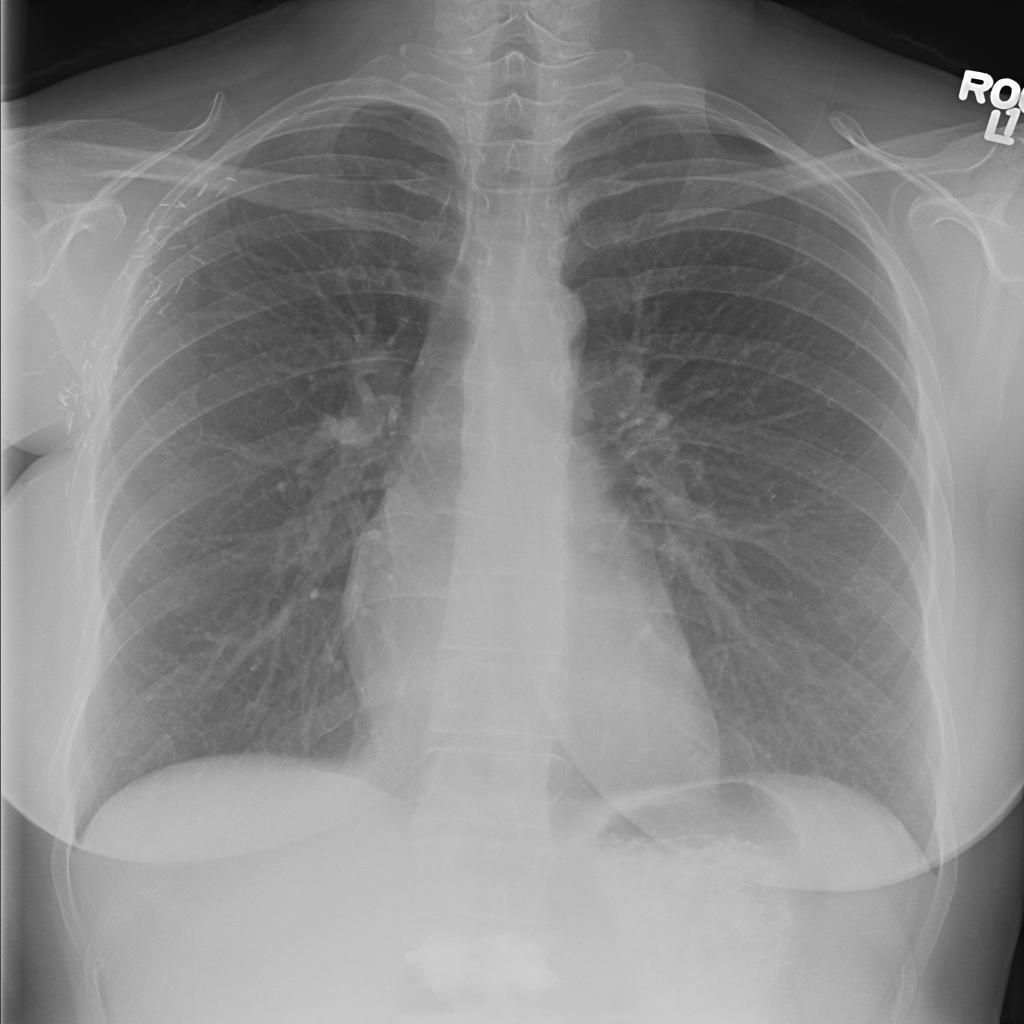Nodule: (386, 367, 435, 396)
